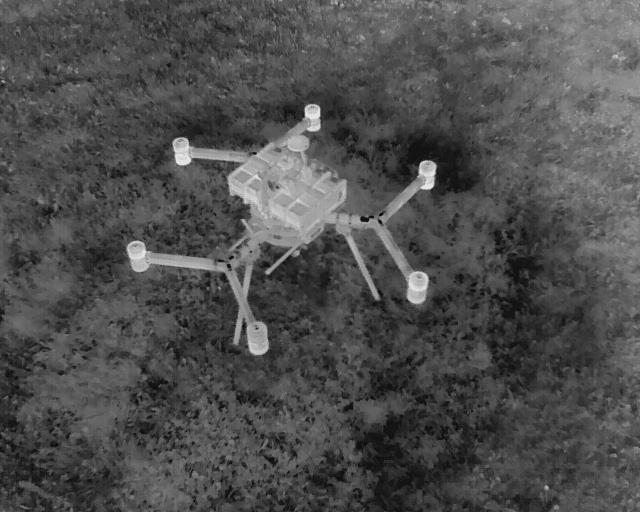drone: (74, 81, 485, 387)
